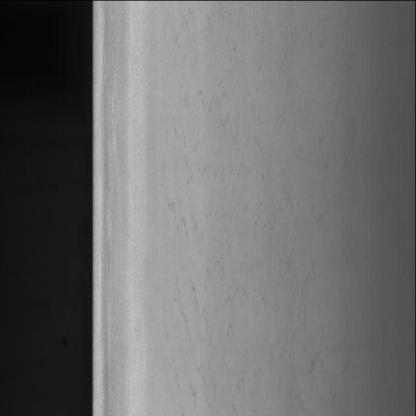silk_spot: (167, 65, 255, 404)
